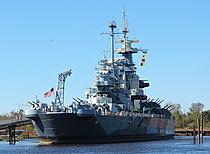MIL_Ship: (24, 5, 176, 144)
